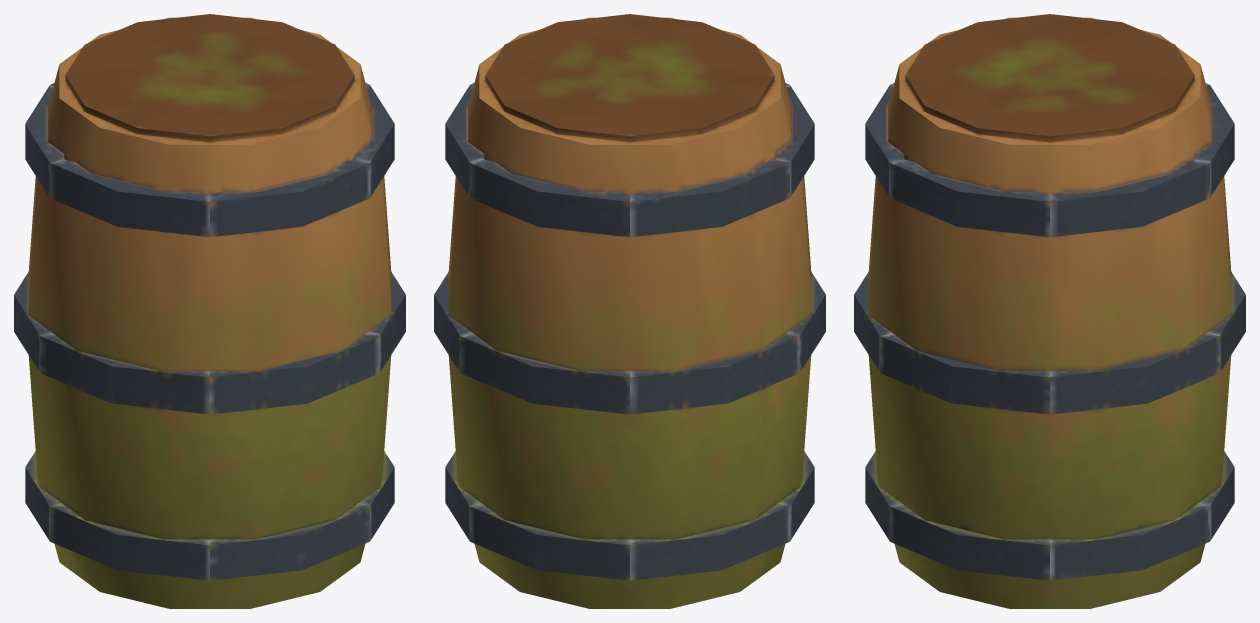
Rendered from Kit_Props_Barrel.fbx.
3 renders of one model, left to right at view 1: azimuth 30°, elevation 25°; view 2: azimuth 150°, elevation 25°; view 3: azimuth 270°, elevation 25°, orthographic.
Parts seen in each view (by area): view 1: Kit_Props_Barrel_LOD0; view 2: Kit_Props_Barrel_LOD0; view 3: Kit_Props_Barrel_LOD0.
Boxes of the visible parts, bbox=[...] form: Kit_Props_Barrel_LOD0: bbox=[14, 14, 405, 608]; Kit_Props_Barrel_LOD0: bbox=[434, 14, 825, 608]; Kit_Props_Barrel_LOD0: bbox=[854, 14, 1245, 608].
Size of what is drawn, in the model's own units: 0.704 by 0.932 by 0.704.
Materials: 1 (1 with a texture image).
